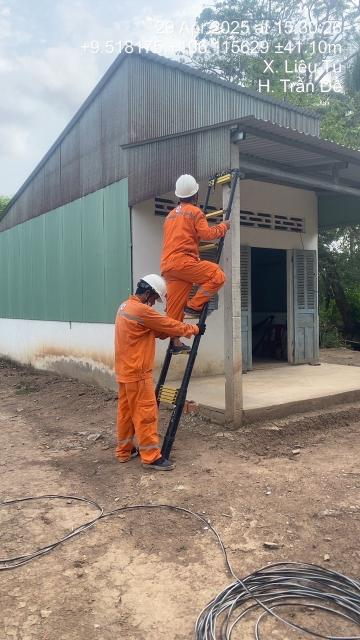helmet: (134, 272, 174, 302), (171, 173, 206, 206)
shoes: (139, 454, 176, 472), (181, 302, 216, 318), (167, 343, 195, 356), (113, 449, 139, 461)
